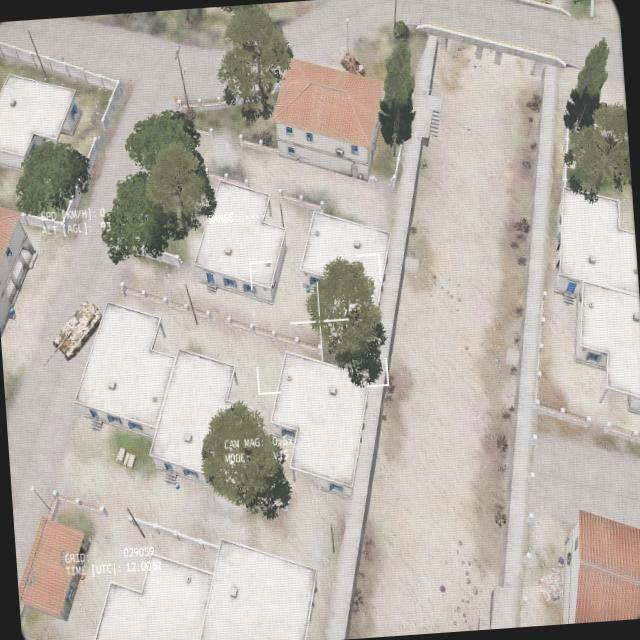tank: (36, 298, 105, 367)
